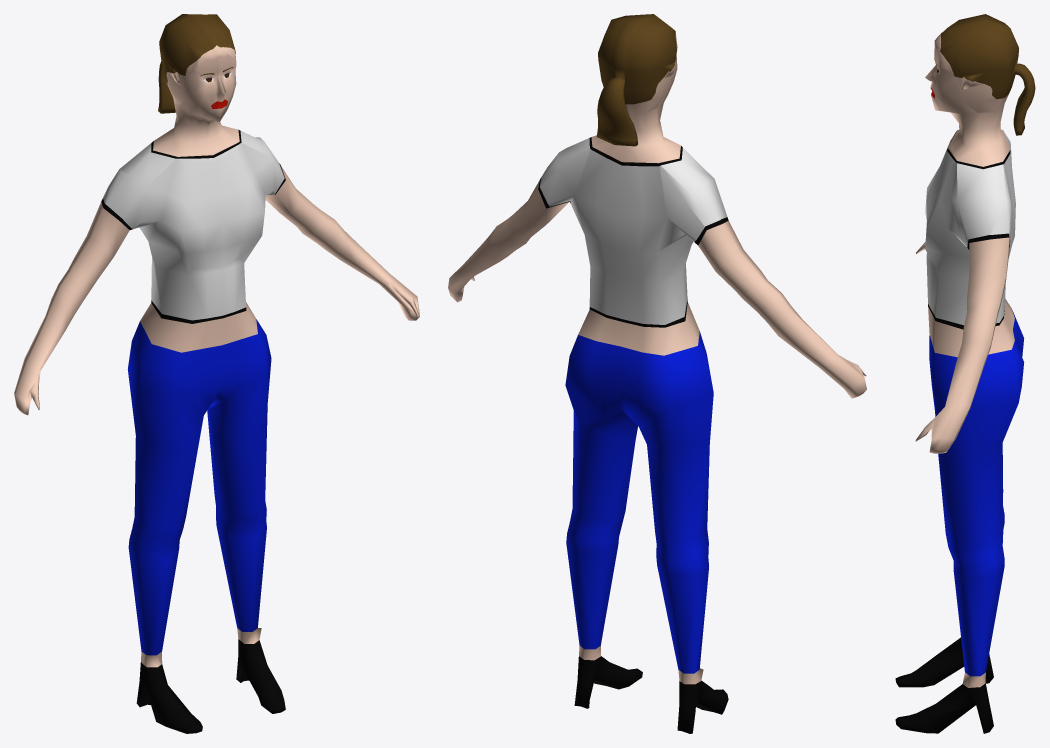
Rendered from Character.fbx.
3 renders of one model, left to right at view 1: azimuth 30°, elevation 25°; view 2: azimuth 150°, elevation 25°; view 3: azimuth 270°, elevation 25°, orthographic. The views are drawn at different scales.
Parts seen in each view (by area): view 1: Body; view 2: Body; view 3: Body.
Part boxes in pixels (x1=…): Body: x1=14, y1=14, x2=419, y2=733; Body: x1=448, y1=14, x2=866, y2=733; Body: x1=895, y1=14, x2=1035, y2=733.
Bounding box in the file's own units: 93.34 × 151 × 27.81.
